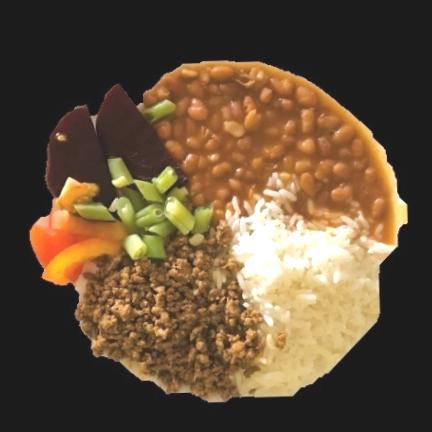beans: (143, 62, 393, 242)
beet: (46, 85, 186, 206)
green_vegetables: (117, 167, 212, 259)
meat: (76, 225, 262, 398)
rice: (227, 198, 393, 394)
tomato: (30, 210, 130, 284)
